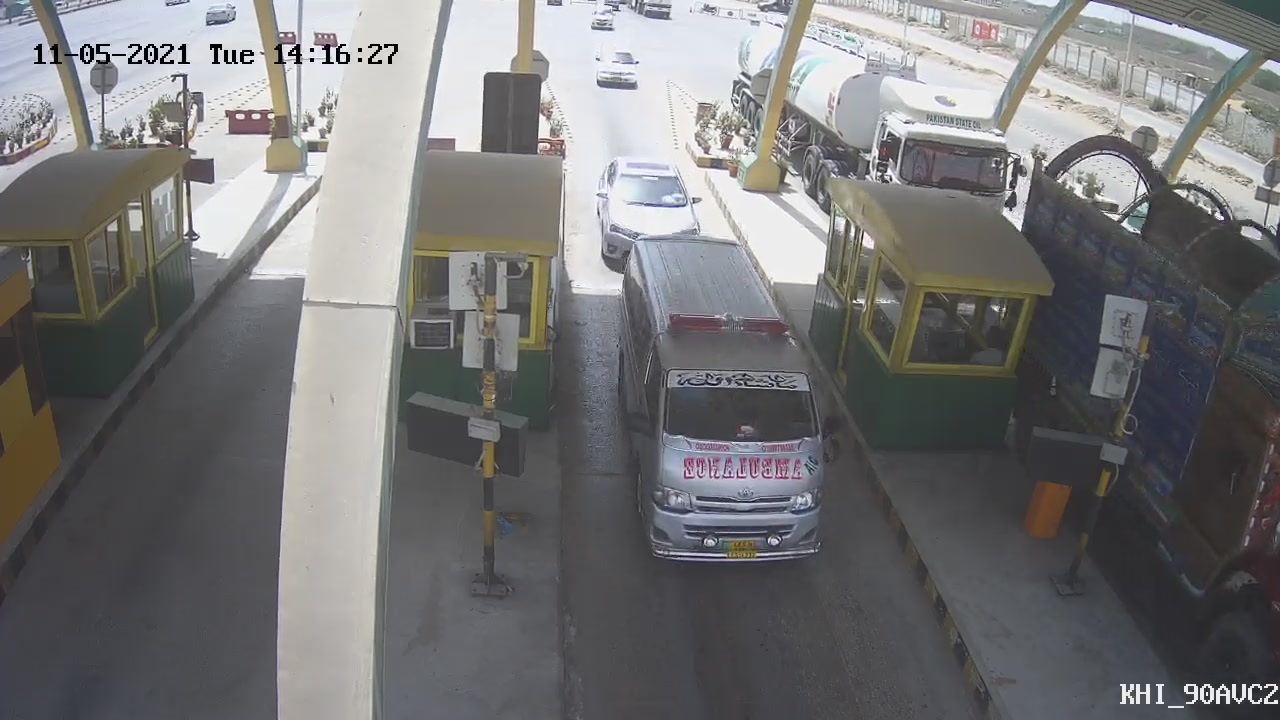F2: (621, 233, 832, 566)
